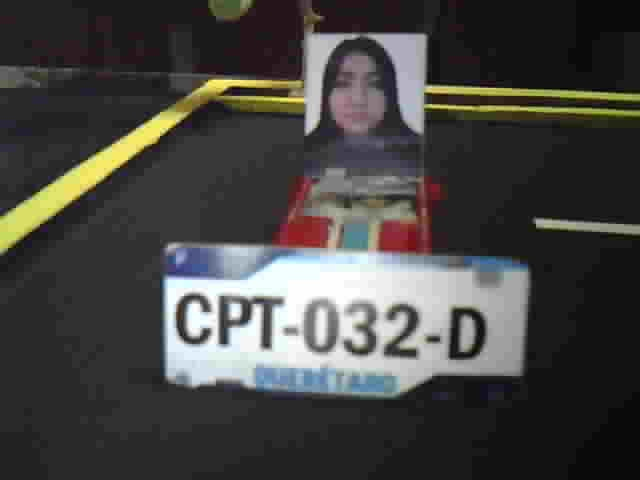PLACA: (160, 237, 534, 410)
ROSTRO: (310, 34, 420, 179)
